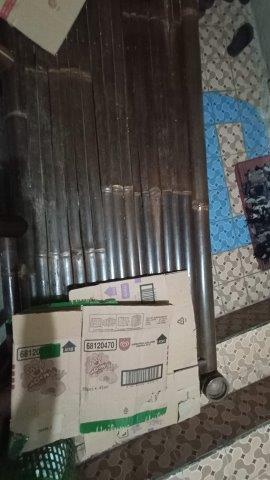kardus: (13, 273, 199, 444)
